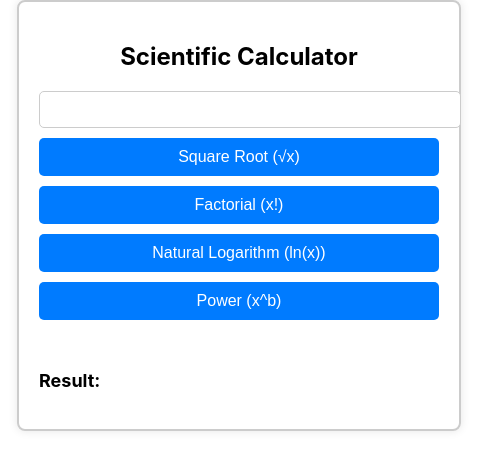
Test: calculates square root correctly
Type "25" into the number field at (250,109), box left=39, top=91, right=461, bottom=128
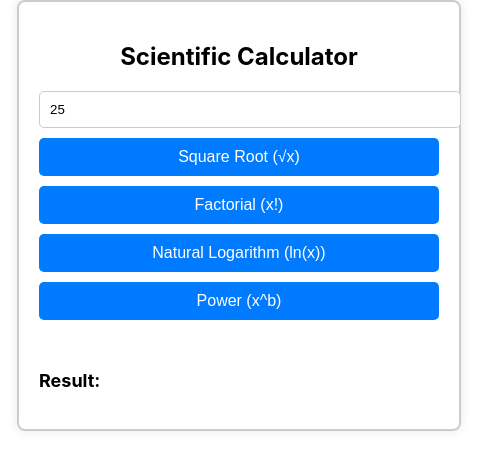
Click the button "Square Root (√x)" at (239,157), box left=39, top=138, right=439, bottom=176
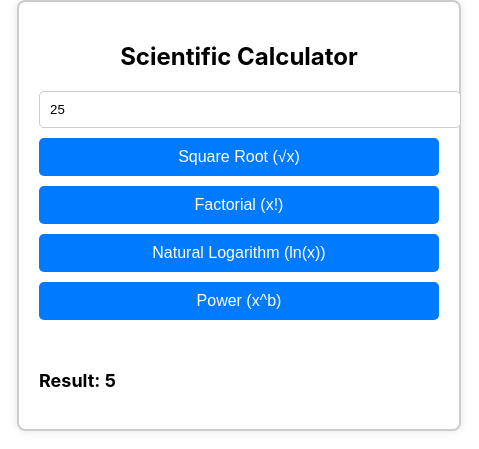
Expected: the heading "Result: 5" is shown, left=39, top=370, right=116, bottom=391
